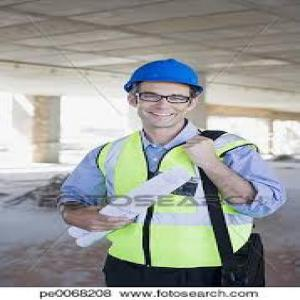blue: (129, 60, 206, 128)
